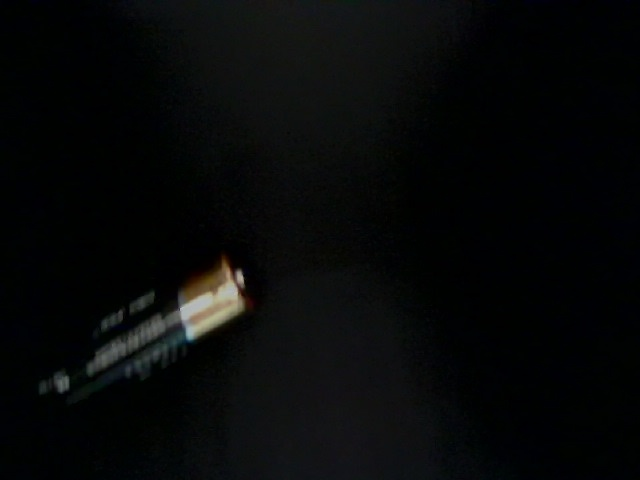QTLJ: (534, 367, 640, 476)
